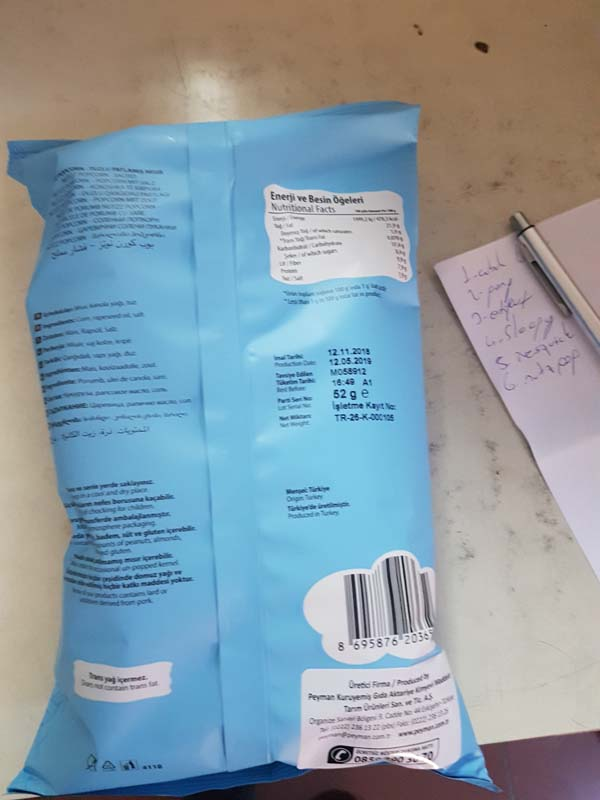popcorn: (2, 121, 520, 794)
